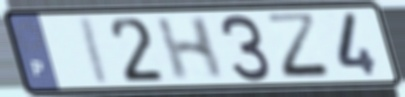2: (109, 15, 169, 85)
3: (217, 11, 272, 84)
4: (334, 9, 385, 81)
H: (153, 14, 227, 84)
I: (78, 14, 114, 89)
Z: (262, 11, 337, 81)
